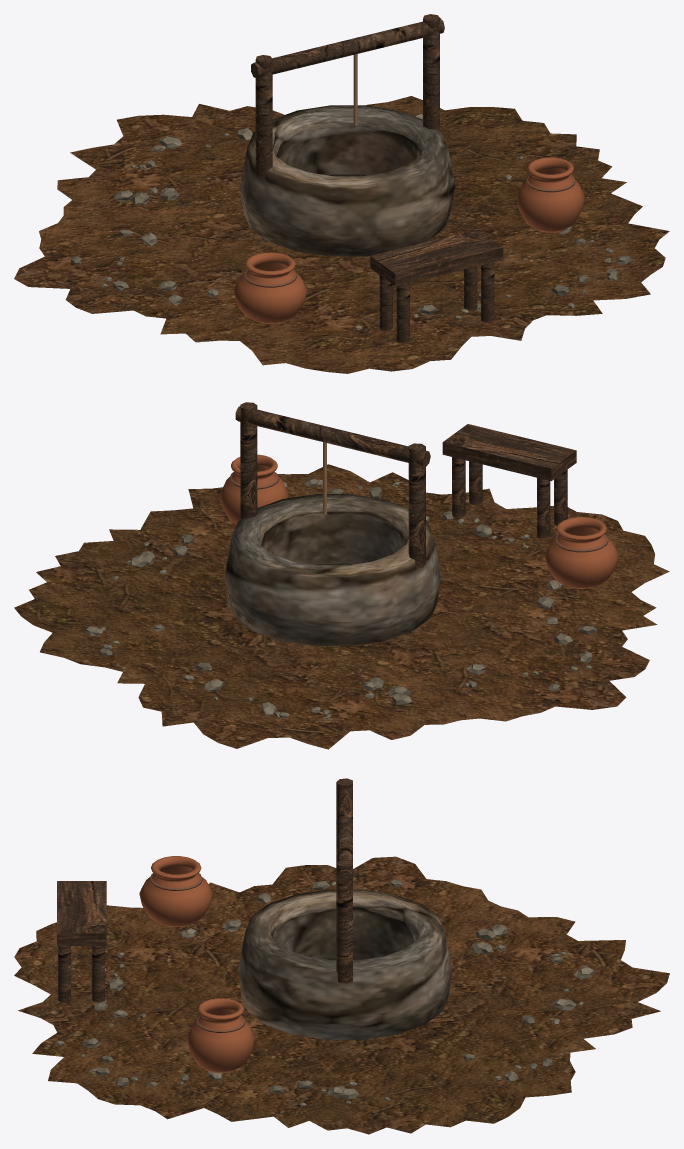
The model's file is well.glb.
3 views of the same model, one above another, from view 1: azimuth 30°, elevation 25°; view 2: azimuth 150°, elevation 25°; view 3: azimuth 270°, elevation 25° (orthographic).
Parts seen in each view (by area): view 1: part_0, part_2, part_4, part_6, part_1; view 2: part_0, part_2, part_4, part_6, part_1; view 3: part_0, part_2, part_4, part_6, part_1.
Boxes of the visible parts, left/top/right/bottom form: part_0: left=14, top=96, right=669, bottom=373; part_2: left=240, top=105, right=455, bottom=256; part_4: left=251, top=14, right=503, bottom=342; part_6: left=233, top=157, right=584, bottom=323; part_1: left=71, top=114, right=632, bottom=329; part_0: left=14, top=464, right=669, bottom=749; part_2: left=224, top=494, right=440, bottom=645; part_4: left=235, top=402, right=576, bottom=568; part_6: left=220, top=454, right=618, bottom=588; part_1: left=83, top=478, right=596, bottom=719; part_0: left=14, top=856, right=669, bottom=1134; part_2: left=238, top=889, right=451, bottom=1039; part_4: left=57, top=778, right=352, bottom=1002; part_6: left=139, top=856, right=254, bottom=1073; part_1: left=55, top=879, right=595, bottom=1106.
Size of the model in its own units: 3.63 by 1.12 by 3.62.
Materials: 8 (4 with a texture image).
